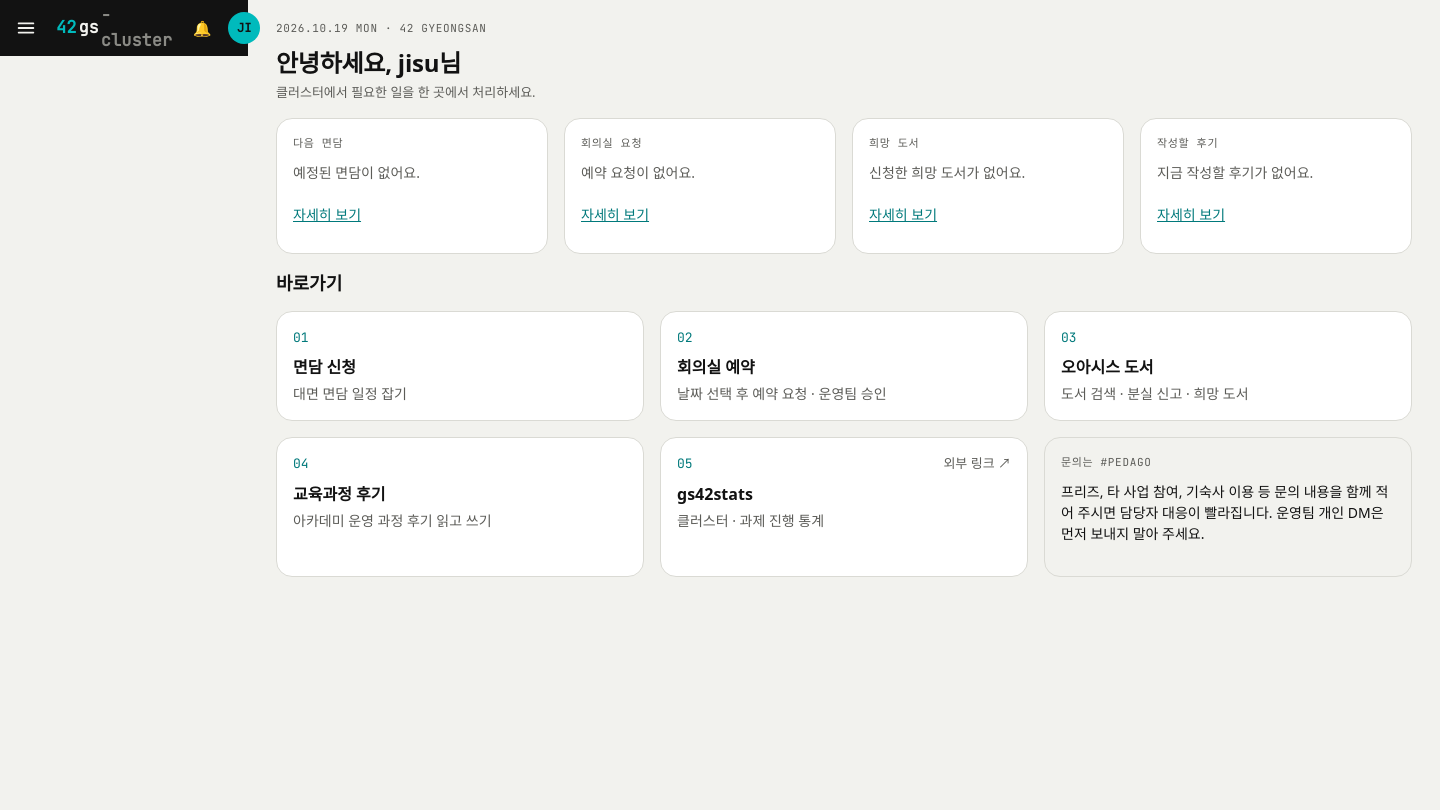
it: 레이아웃: 모바일(≤900px) › 교육생 드로어에는 화면 전환 링크가 없다
The image size is (1440, 810).
Click the button named "메뉴 열기".
click(26, 28)  # box x1=4 y1=6 x2=48 y2=50
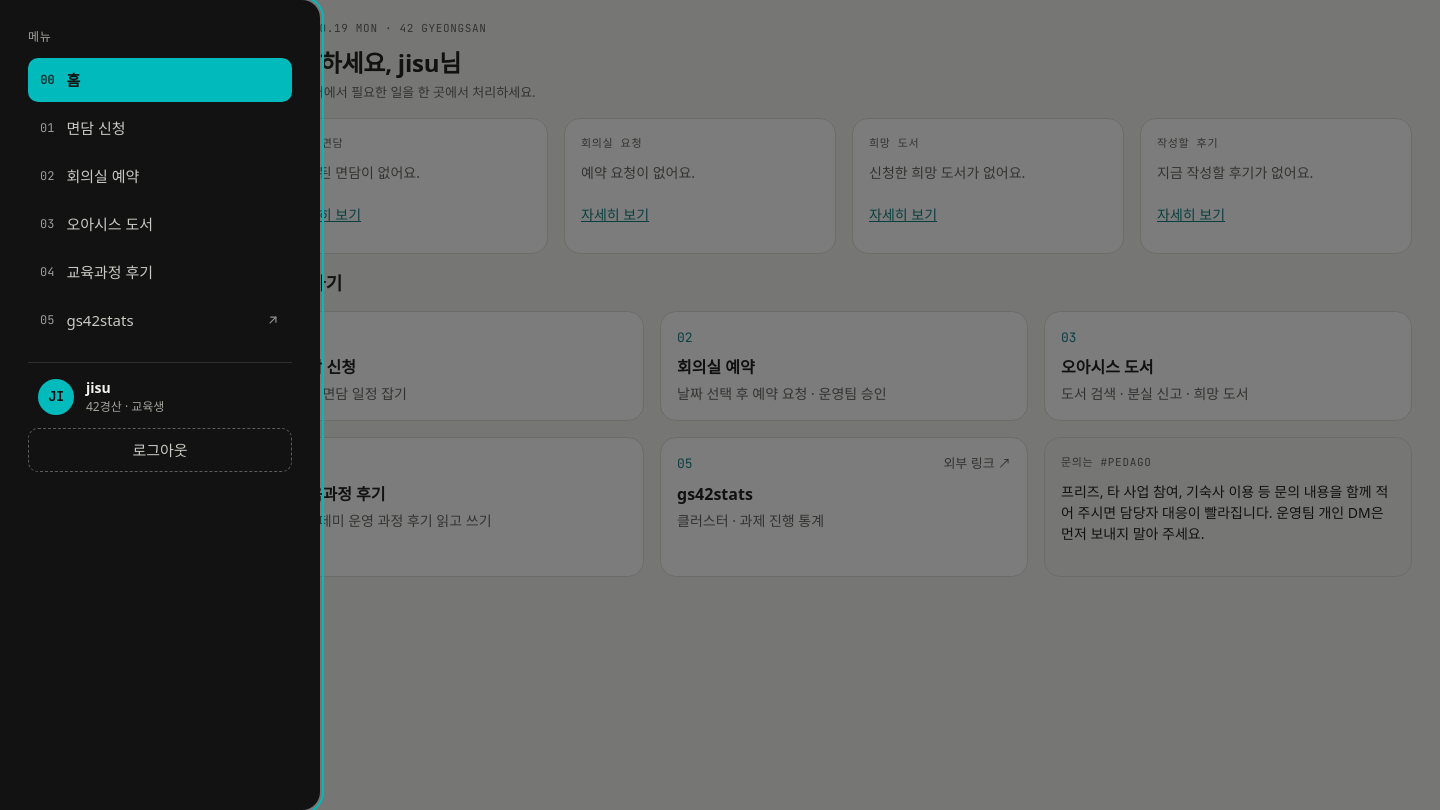
Result: the button "로그아웃" is shown at x1=28 y1=428 x2=292 y2=472
